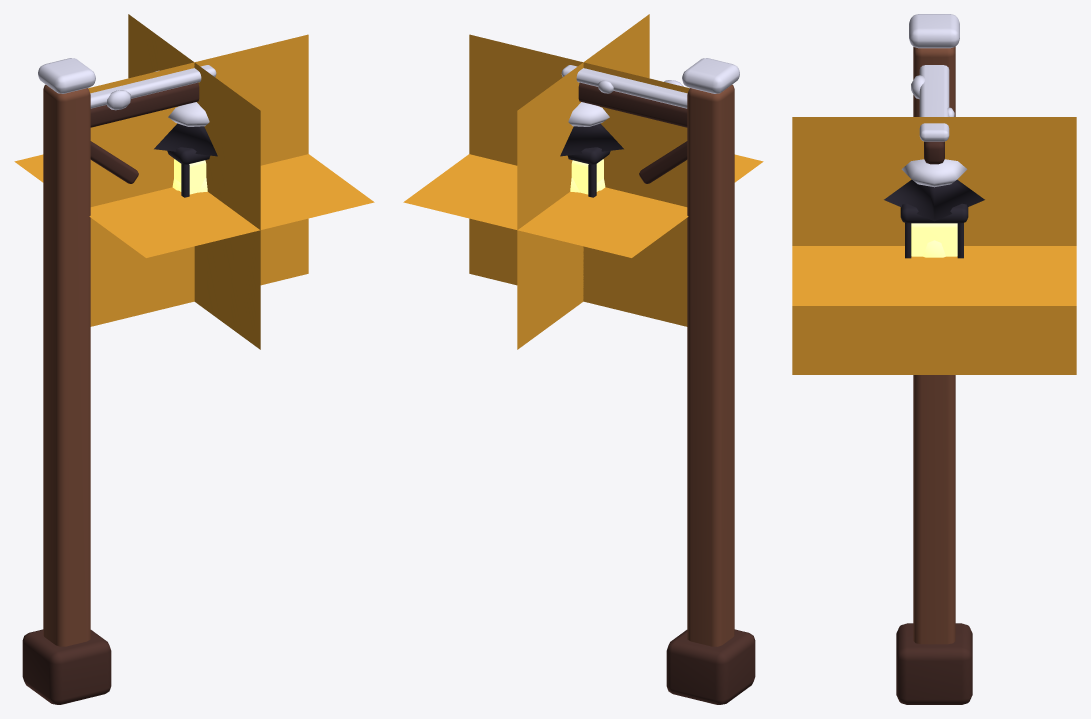
Rendered from frost_lamp.glb.
3 renders of one model, left to right at view 1: azimuth 30°, elevation 25°; view 2: azimuth 150°, elevation 25°; view 3: azimuth 270°, elevation 25°, orthographic. The views are drawn at different scales.
Parts seen in each view (by area): view 1: Lamp; view 2: Lamp; view 3: Lamp.
Part boxes in pixels (bbox=[...]): Lamp: bbox=[14, 14, 374, 704]; Lamp: bbox=[403, 14, 763, 704]; Lamp: bbox=[792, 14, 1076, 704].
Bounding box in the file's own units: 1.6 × 3.5 × 1.34.
